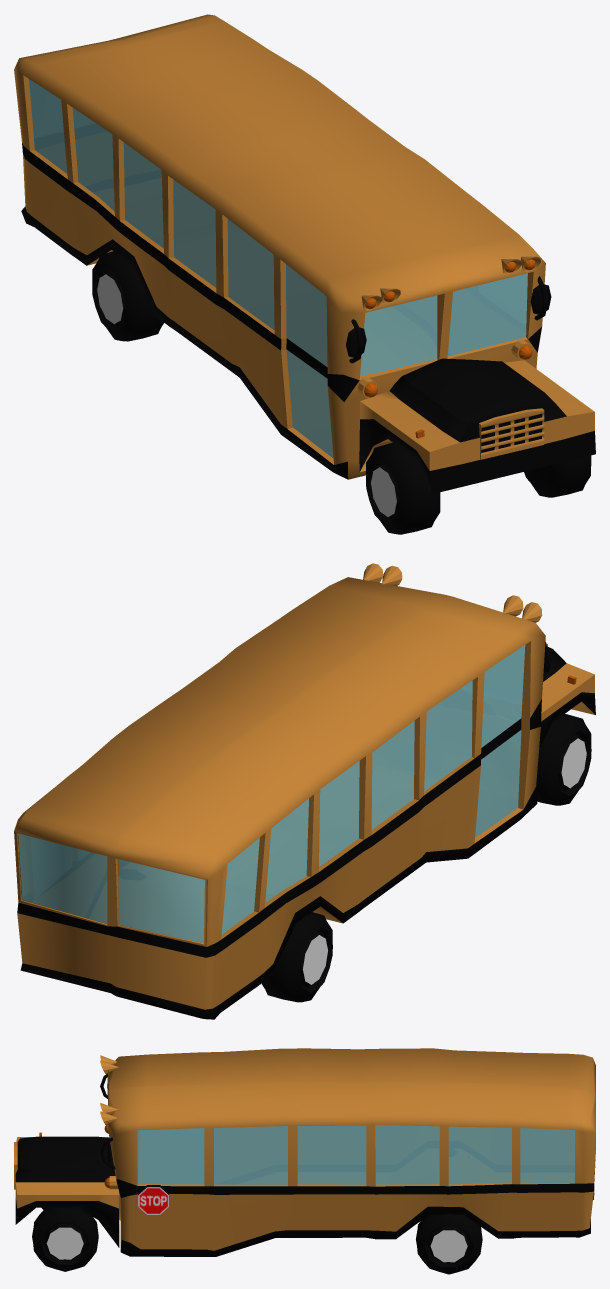
Rendered from schoolbus2.fbx.
3 renders of one model, top to bottom at view 1: azimuth 30°, elevation 25°; view 2: azimuth 150°, elevation 25°; view 3: azimuth 270°, elevation 25°, orthographic. The views are drawn at different scales.
Visible parts, largest first — view 1: polySurface44; view 2: polySurface44; view 3: polySurface44.
Part boxes in pixels (left/top/right/bottom): polySurface44: left=14, top=14, right=595, bottom=534; polySurface44: left=14, top=563, right=595, bottom=1019; polySurface44: left=14, top=1048, right=595, bottom=1274.
Size of the model in its own units: 5.98 by 5.98 by 19.81.
Materials: 9 (1 with a texture image).
